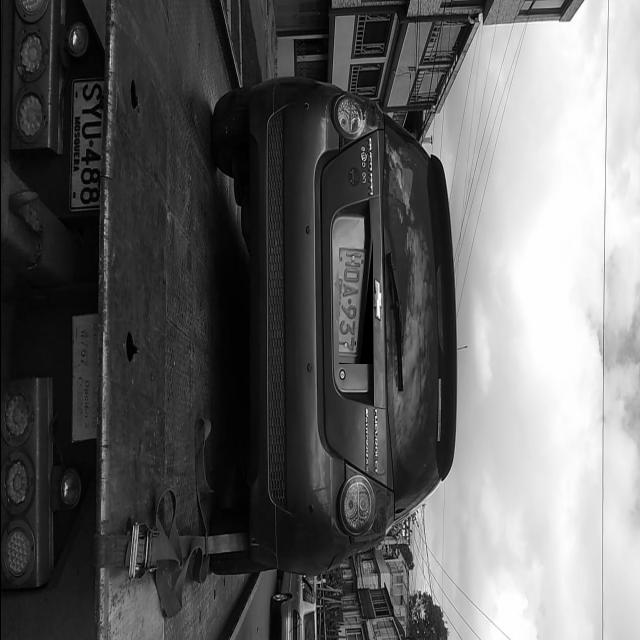plate: (338, 237, 372, 364)
